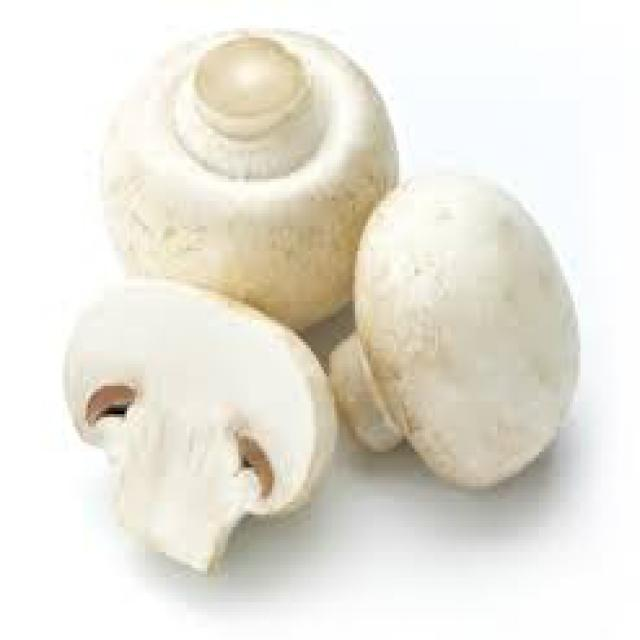Agaricus bisporus: (104, 26, 398, 329), (333, 179, 586, 488), (67, 280, 329, 574)
